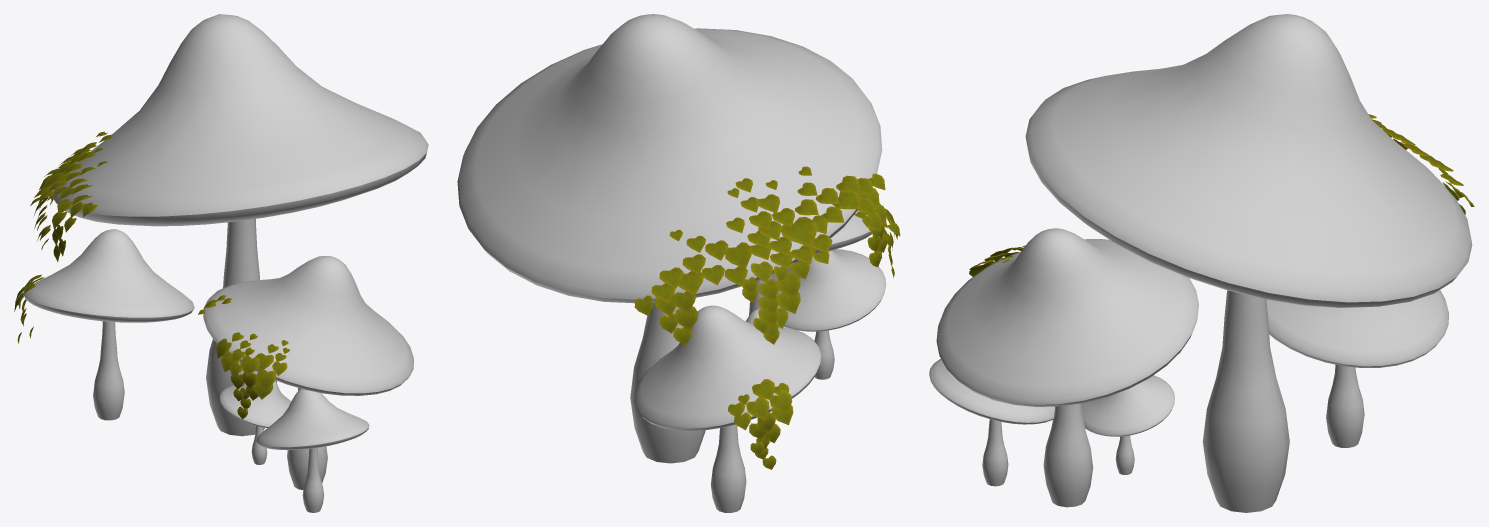
File: F_Mushroom.fbx
The picture shows the model from 3 angles, left to right: view 1: azimuth 30°, elevation 25°; view 2: azimuth 150°, elevation 25°; view 3: azimuth 270°, elevation 25°; orthographic projection. The views are drawn at different scales.
Visible parts, largest first — view 1: Box093, mushroom; view 2: Box093, mushroom; view 3: Box093, mushroom.
Part boxes in pixels (x1,y1,x2,y2): Box093: (23,14,428,512); mushroom: (14,131,289,419); Box093: (457,14,885,512); mushroom: (634,166,900,469); Box093: (929,14,1472,512); mushroom: (969,114,1474,276).
Size of the model in its own units: 658 by 716 by 729.
